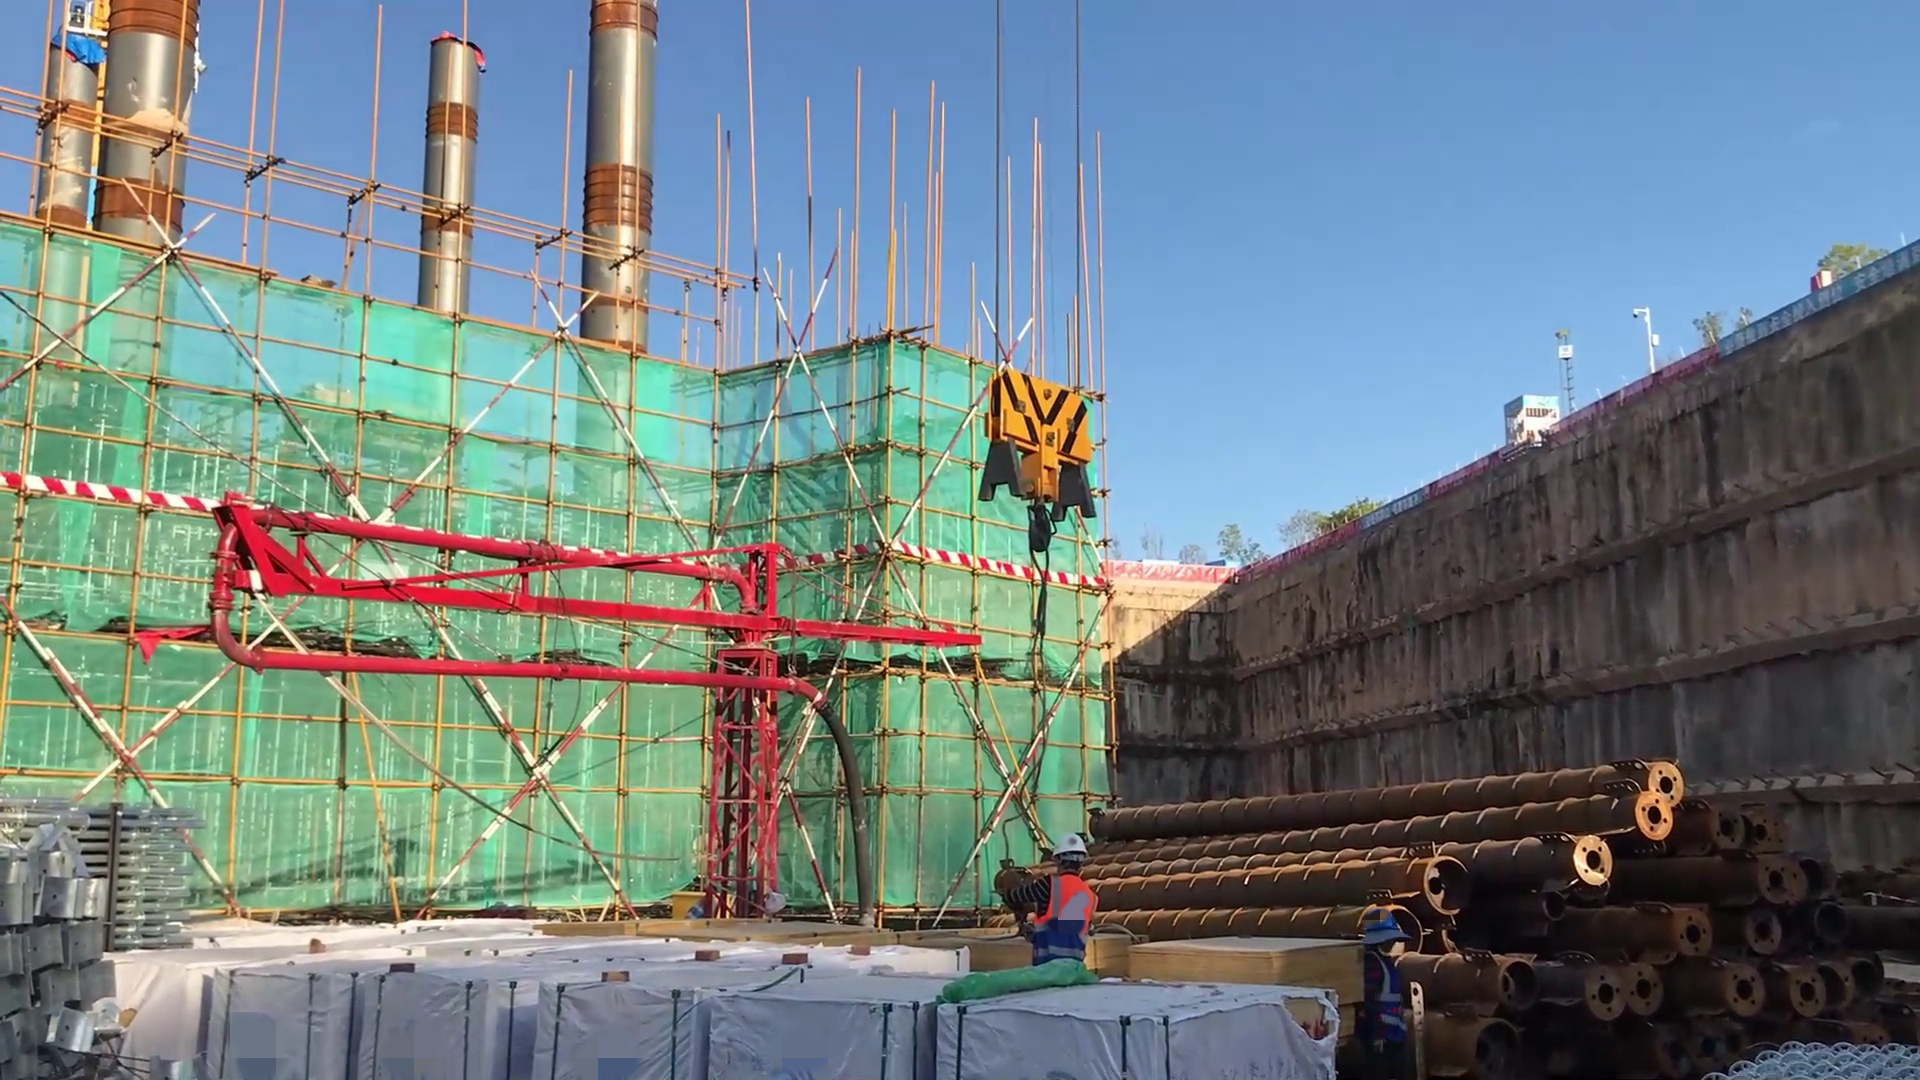board: (1127, 931, 1359, 1020), (1084, 933, 1149, 975)
ebox: (656, 877, 736, 930)
helmet: (1354, 899, 1411, 959), (1041, 836, 1097, 876)
hook: (970, 360, 1106, 595)
person: (1004, 830, 1104, 991), (1352, 904, 1418, 1078)
scaffold: (16, 784, 218, 957)
slogan: (1726, 252, 1920, 357), (1359, 482, 1434, 545)
vest: (1016, 865, 1102, 979), (1347, 951, 1415, 1052)
